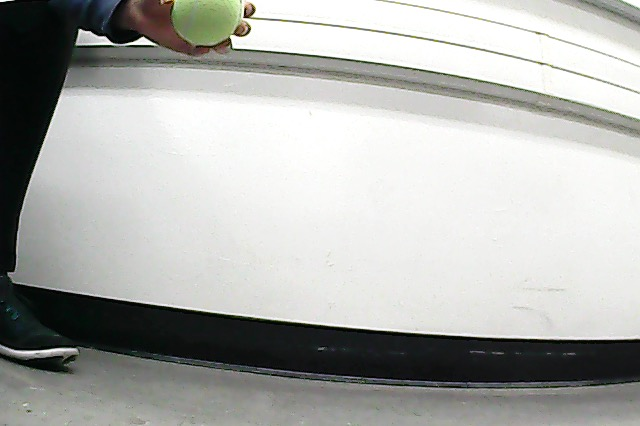ball: (171, 2, 245, 47)
